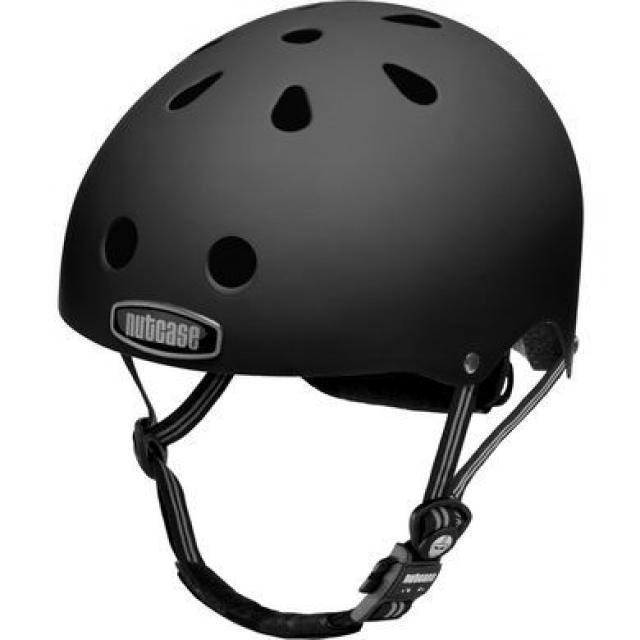helmet: (56, 0, 585, 639)
